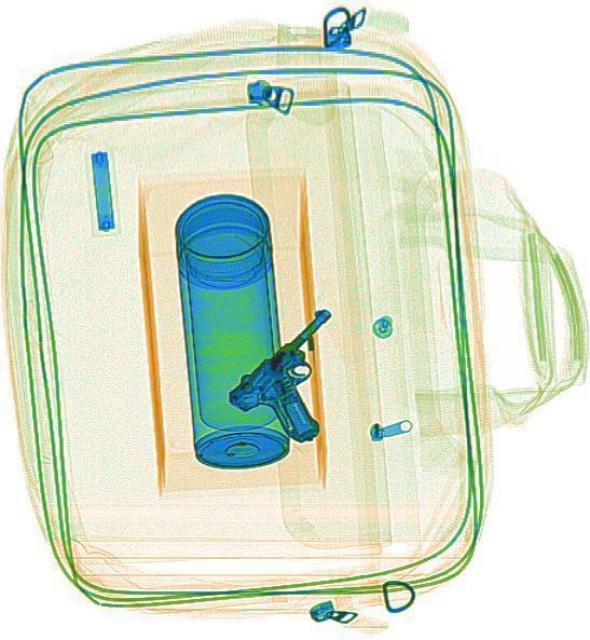Gun: (217, 301, 383, 464)
